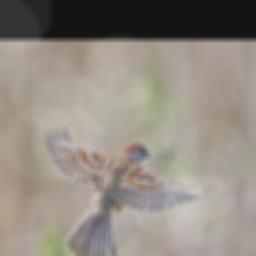Sparrow: (43, 125, 213, 256)
